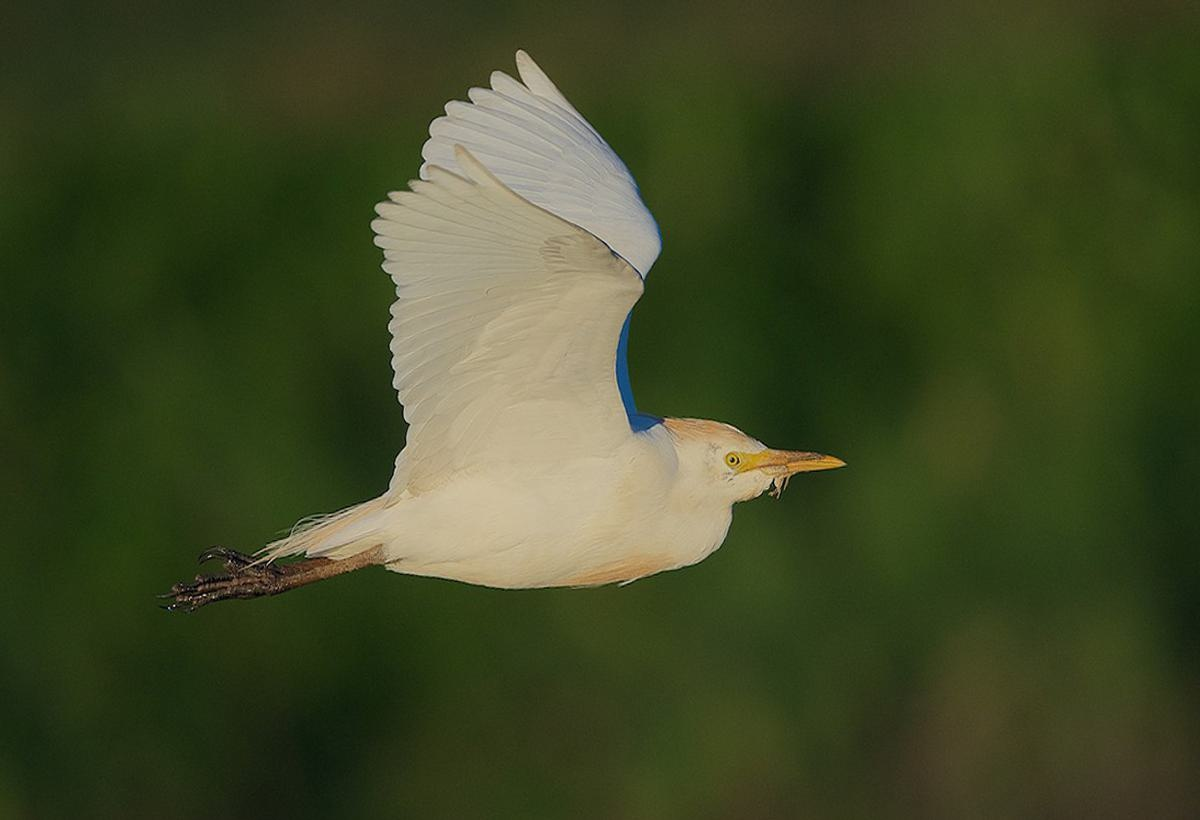egret: (144, 42, 874, 637)
